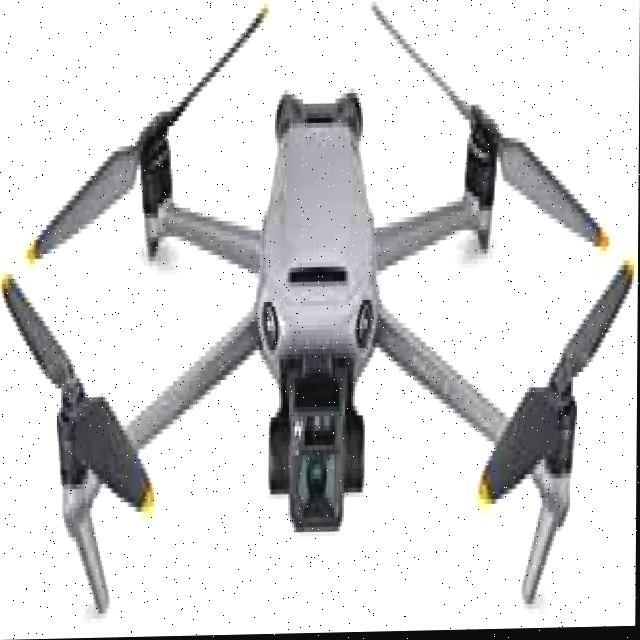drone: (21, 0, 623, 640)
